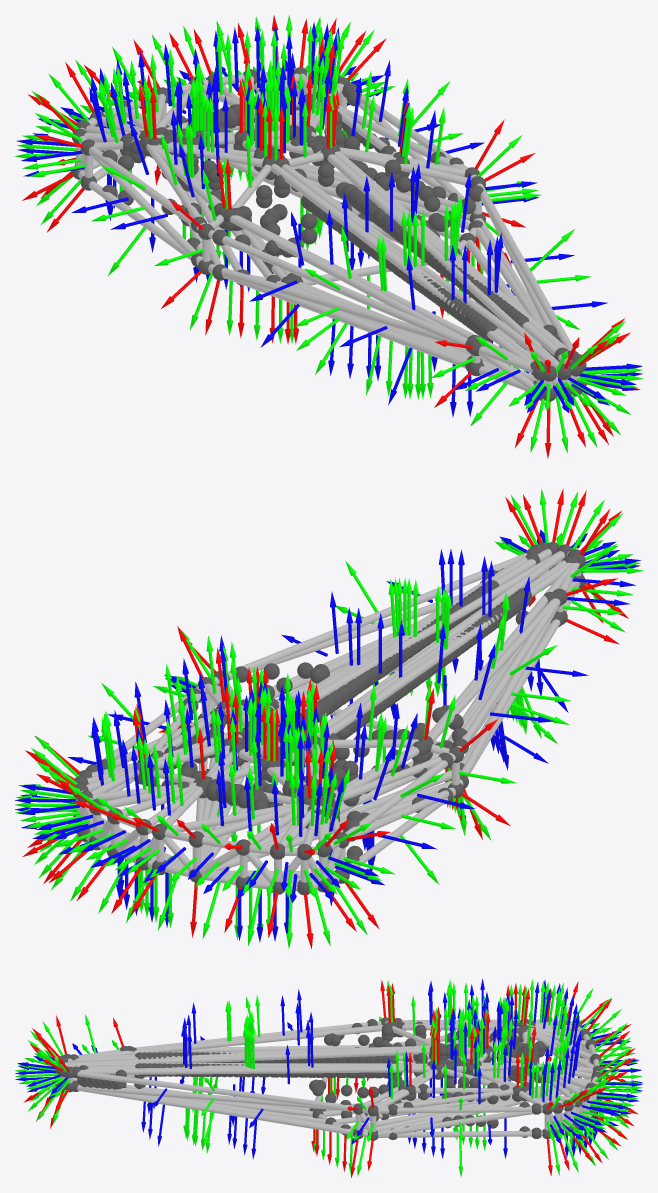
The model's file is onshape_guitar.gltf.
3 renders of one model, top to bottom at view 1: azimuth 30°, elevation 25°; view 2: azimuth 150°, elevation 25°; view 3: azimuth 270°, elevation 25°, orthographic. The views are drawn at different scales.
Bounding box in the file's own units: 0.5204 × 0.225 × 1.09.
